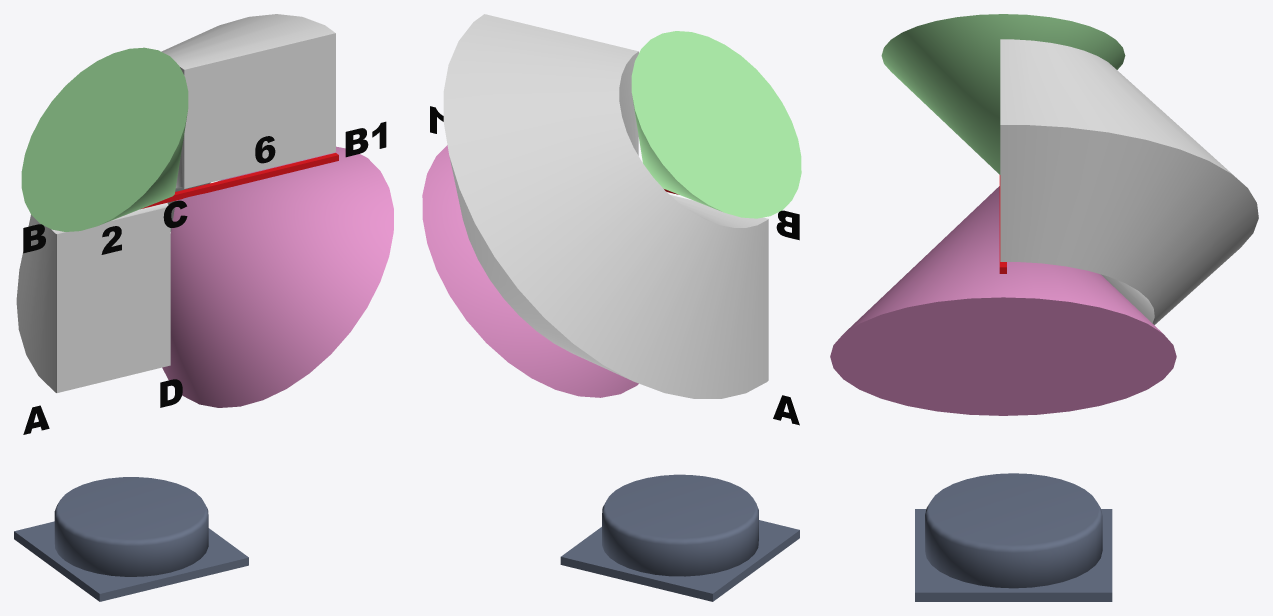
3 renders of one model, left to right at view 1: azimuth 30°, elevation 25°; view 2: azimuth 150°, elevation 25°; view 3: azimuth 270°, elevation 25°, orthographic. The views are drawn at different scales.
Parts seen in each view (by area): view 1: Cube.001, Cone.001, Cone, Cube, Cube.002, Text.004, Text.001; view 2: Cube.001, Cone, Cube, Cone.001, Text.001; view 3: Cube.001, Cone.001, Cube, Cone.
Boxes of the visible parts, left/top/right/bottom form: Cube.001: left=16, top=14, right=335, bottom=392; Cone.001: left=162, top=146, right=393, bottom=407; Cone: left=21, top=47, right=188, bottom=231; Cube: left=14, top=477, right=248, bottom=601; Cube.002: left=141, top=153, right=338, bottom=208; Text.004: left=345, top=121, right=386, bottom=157; Text.001: left=23, top=224, right=45, bottom=253; Cube.001: left=443, top=14, right=768, bottom=398; Cone: left=631, top=31, right=801, bottom=218; Cube: left=560, top=474, right=799, bottom=601; Cone.001: left=422, top=145, right=638, bottom=397; Text.001: left=776, top=210, right=799, bottom=240; Cube.001: left=1000, top=39, right=1258, bottom=324; Cone.001: left=830, top=186, right=1176, bottom=415; Cube: left=915, top=473, right=1112, bottom=601; Cone: left=881, top=14, right=1125, bottom=174.
Bounding box in the file's own units: 22.23 × 28.73 × 19.76.
